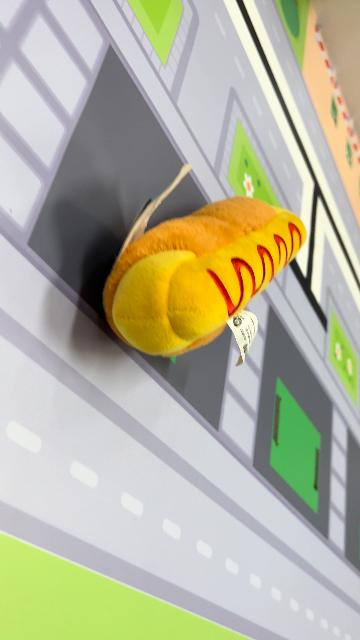hotdog: (103, 195, 309, 357)
